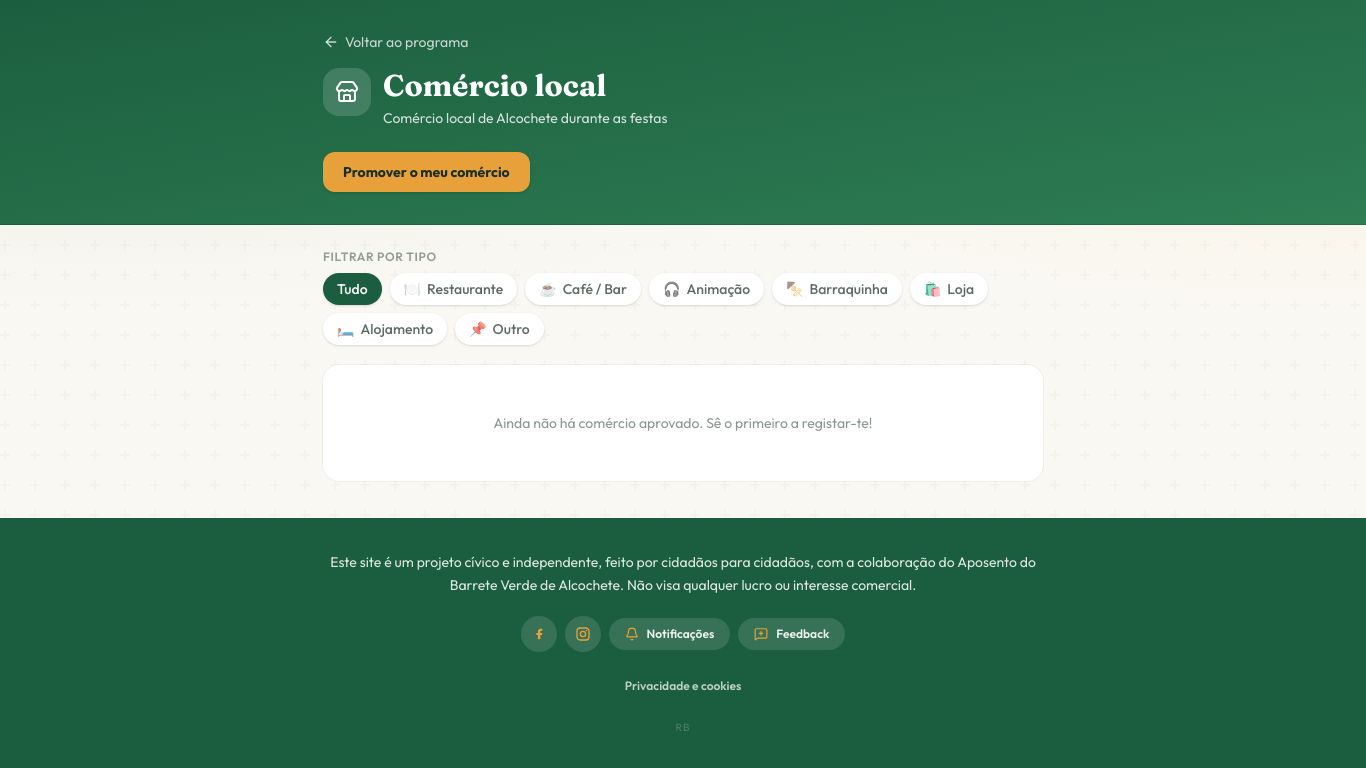
Scenario: Negocios form spam guards › shows rate-limit message when API rejects
Click the button "Promover o meu comércio".
click(426, 172)  # box left=323, top=152, right=530, bottom=192
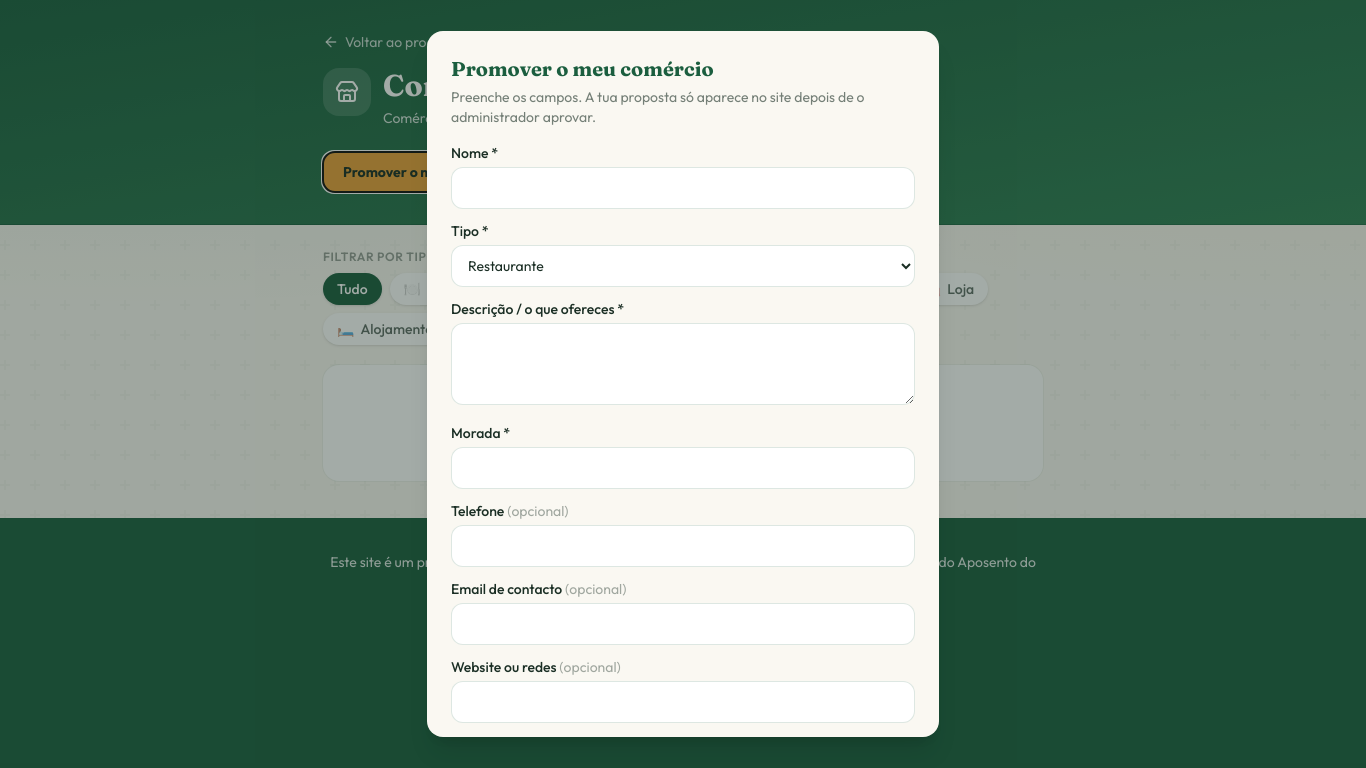
expect the heading "Promover o meu comércio" is shown: met, box left=451, top=56, right=714, bottom=81
expect the form "Promover o meu comércio" is shown: met, box left=427, top=31, right=939, bottom=737
Type "Tasca Teste" into the field labelled "Nome *".
click(683, 188); type("Tasca Teste")  # box left=451, top=167, right=915, bottom=209
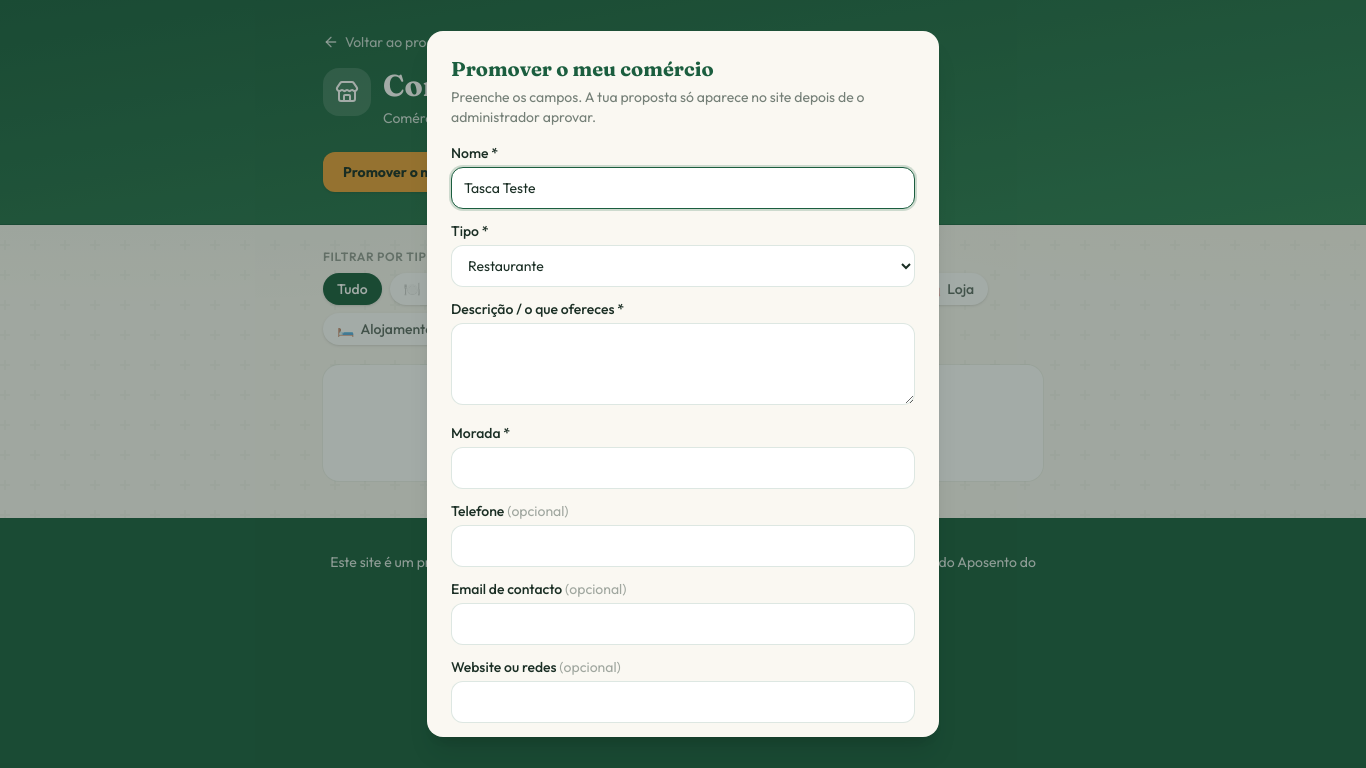
Type "Petiscos e cerveja artesanal" into the text box labelled "Descrição / o que ofereces *".
click(683, 364); type("Petiscos e cerveja artesanal")  # box left=451, top=323, right=915, bottom=405
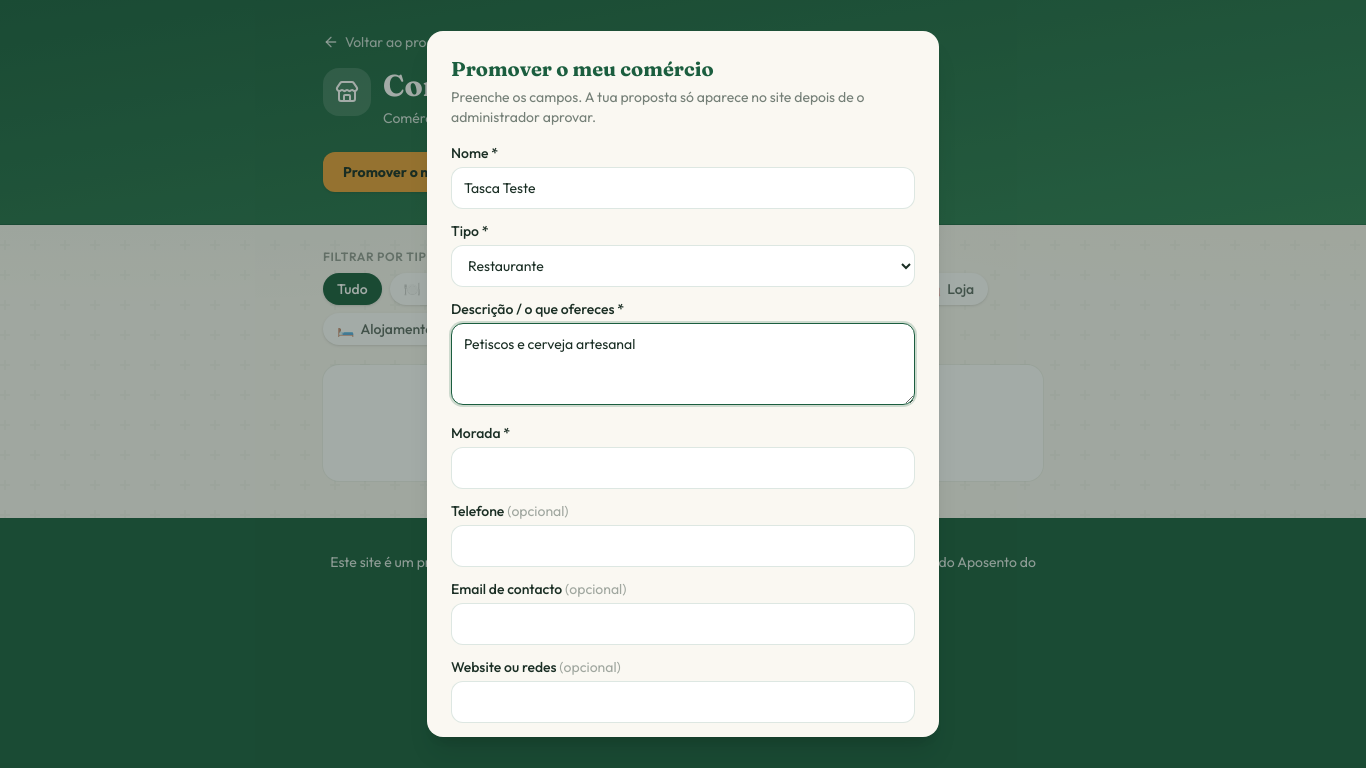
Type "Rua Principal 1, Alcochete" into the field labelled "Morada *".
click(683, 468); type("Rua Principal 1, Alcochete")  # box left=451, top=447, right=915, bottom=489
(page scrolled)
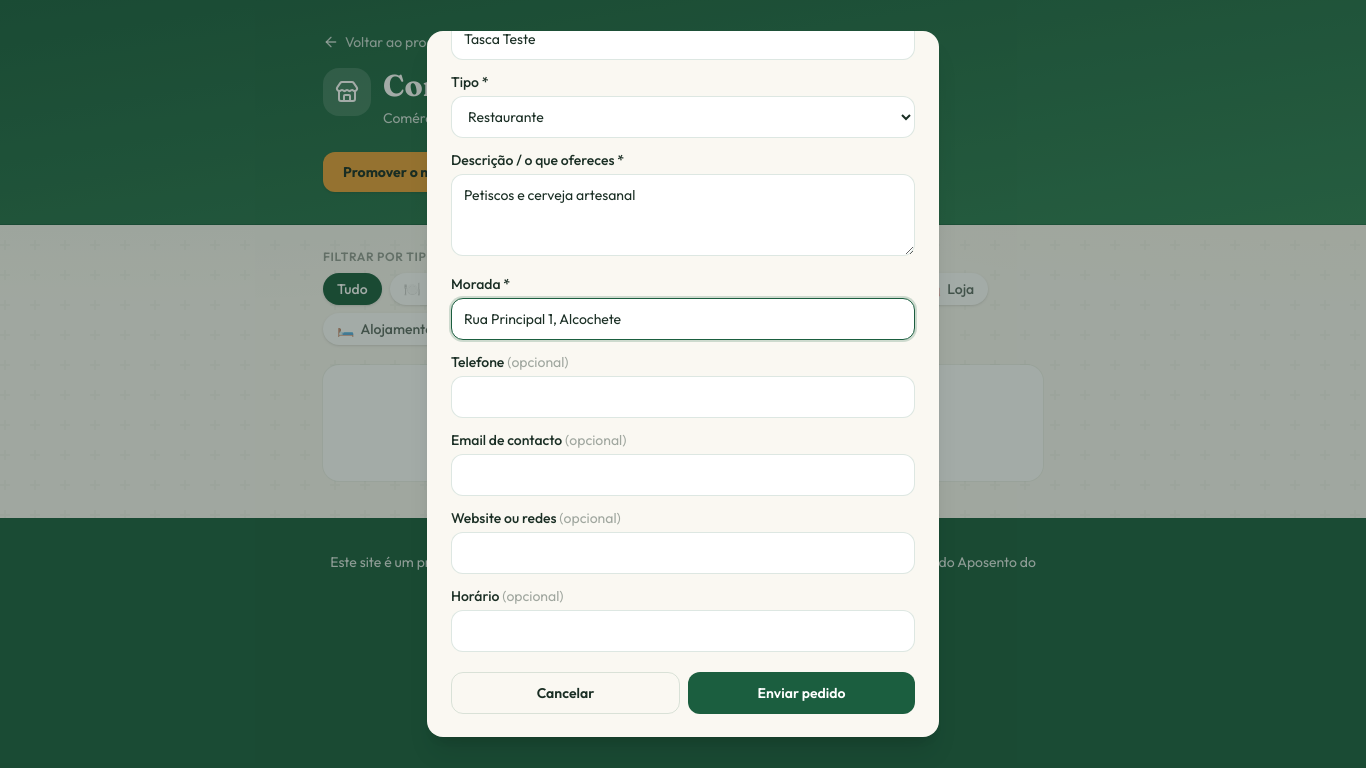
Click the button "Enviar pedido".
click(802, 693)  # box left=688, top=672, right=915, bottom=714
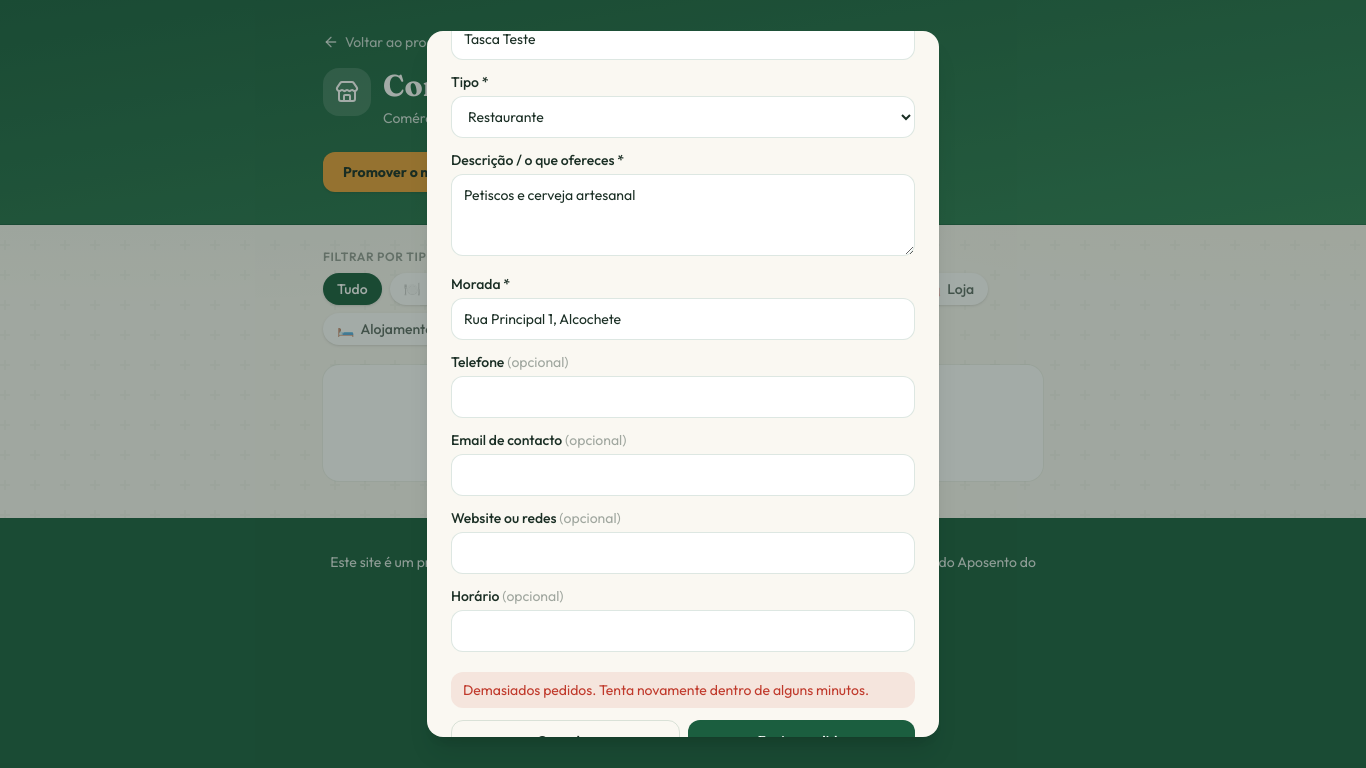
expect the message shows "Demasiados pedidos": met, box left=463, top=681, right=869, bottom=699
